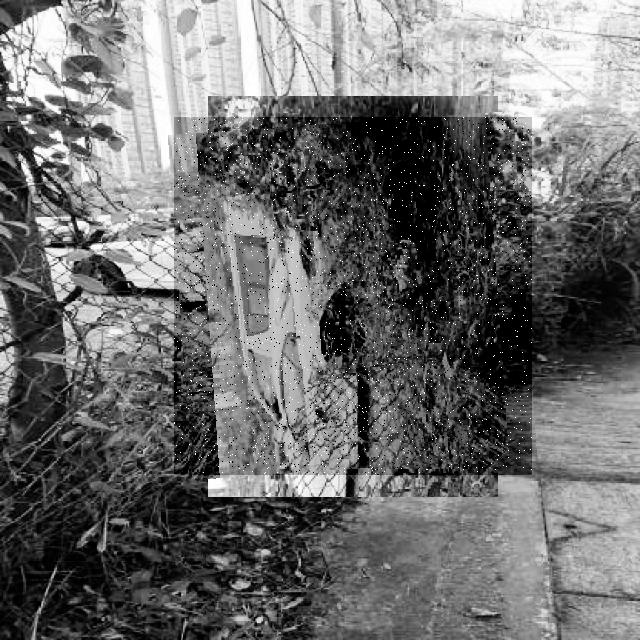anomaly-fence: (174, 117, 532, 475)
